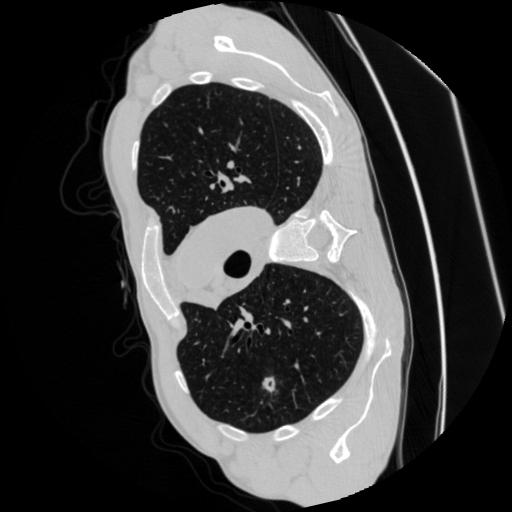nodule: (258, 374, 280, 396)
